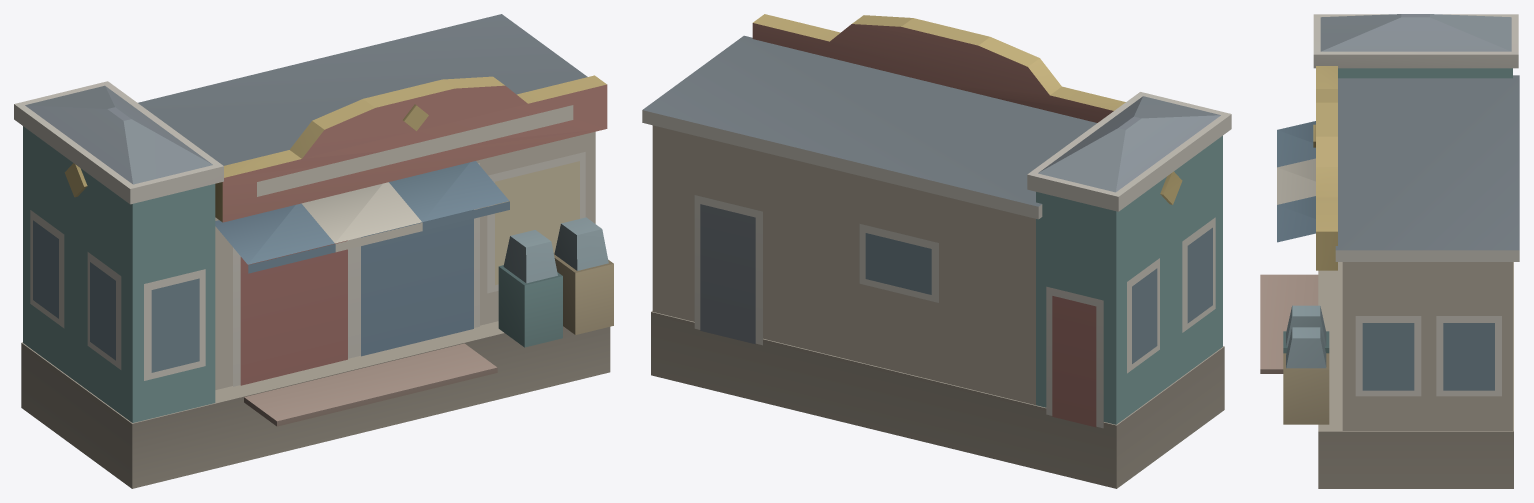
Rendered from arcade.lod2.glb.
The picture shows the model from 3 angles, left to right: view 1: azimuth 30°, elevation 25°; view 2: azimuth 150°, elevation 25°; view 3: azimuth 270°, elevation 25°; orthographic projection. The views are drawn at different scales.
Size of the model in its own units: 8.64 by 5.48 by 4.51.
